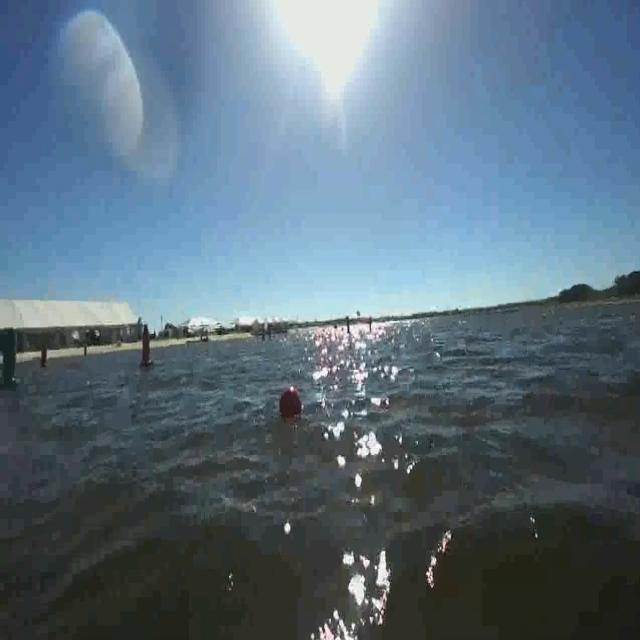green-column-buoy: (0, 329, 20, 390)
red-buoy: (279, 383, 304, 424)
red-column-buoy: (138, 325, 154, 370), (40, 342, 49, 370)
